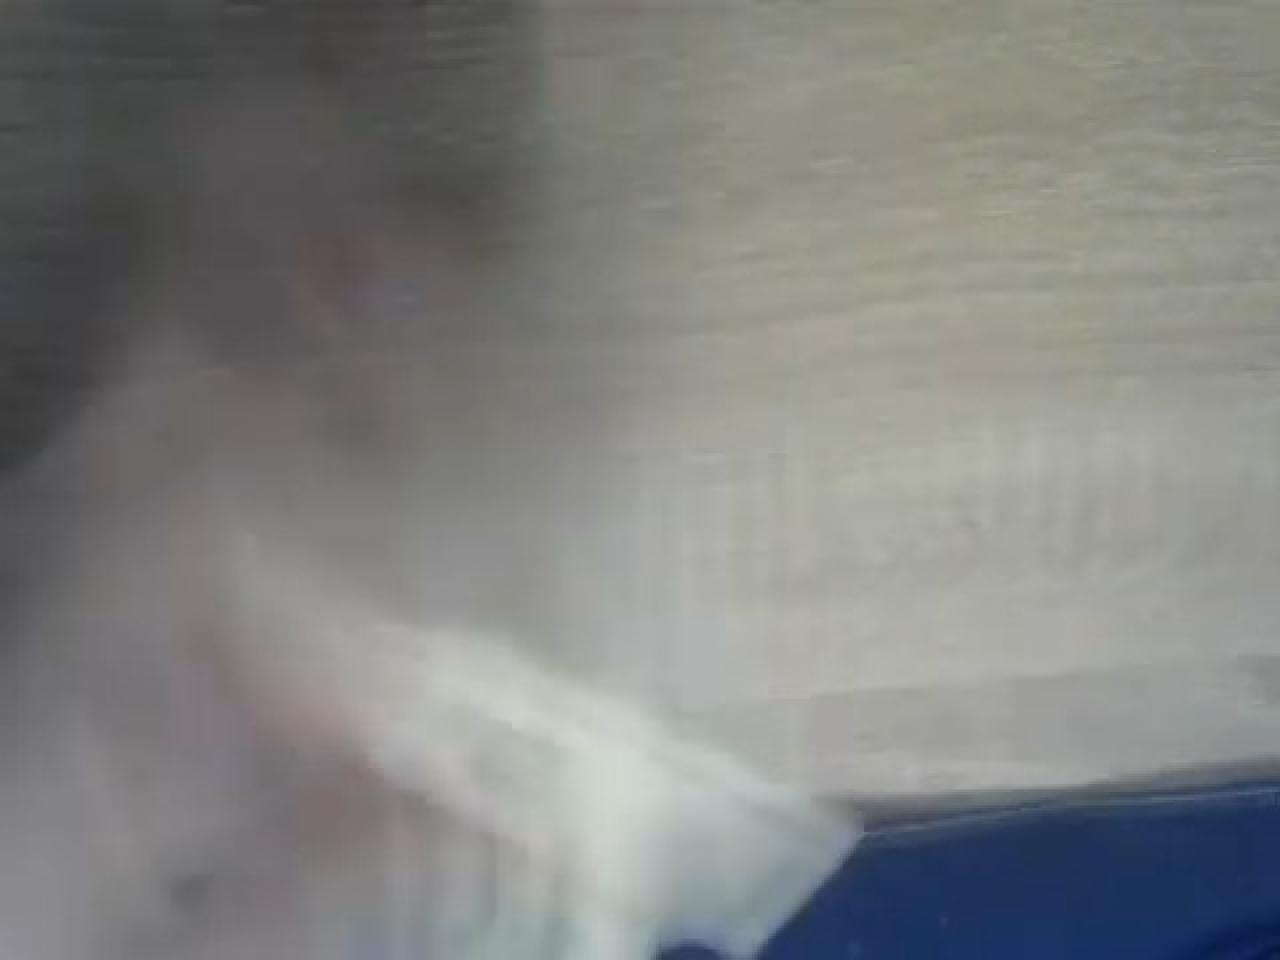10leva: (0, 3, 1277, 960)
